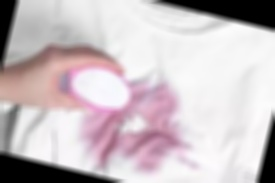ink: (120, 129, 177, 176), (129, 82, 183, 123), (76, 117, 117, 167)
